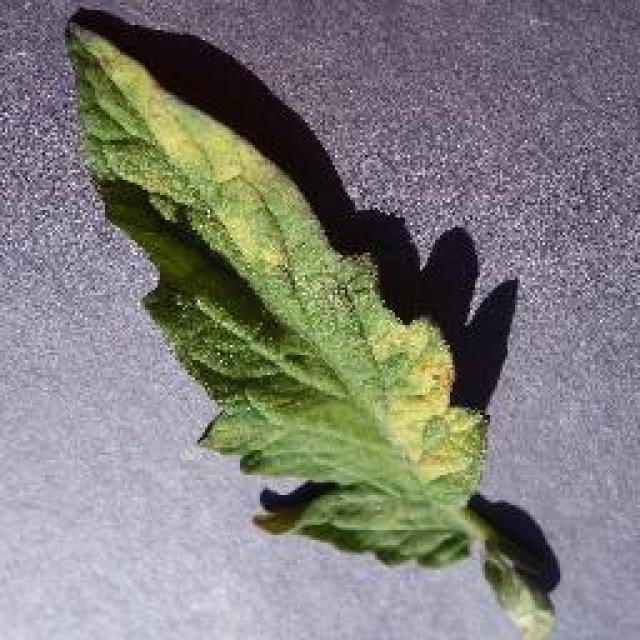green waste: (51, 9, 554, 593)
